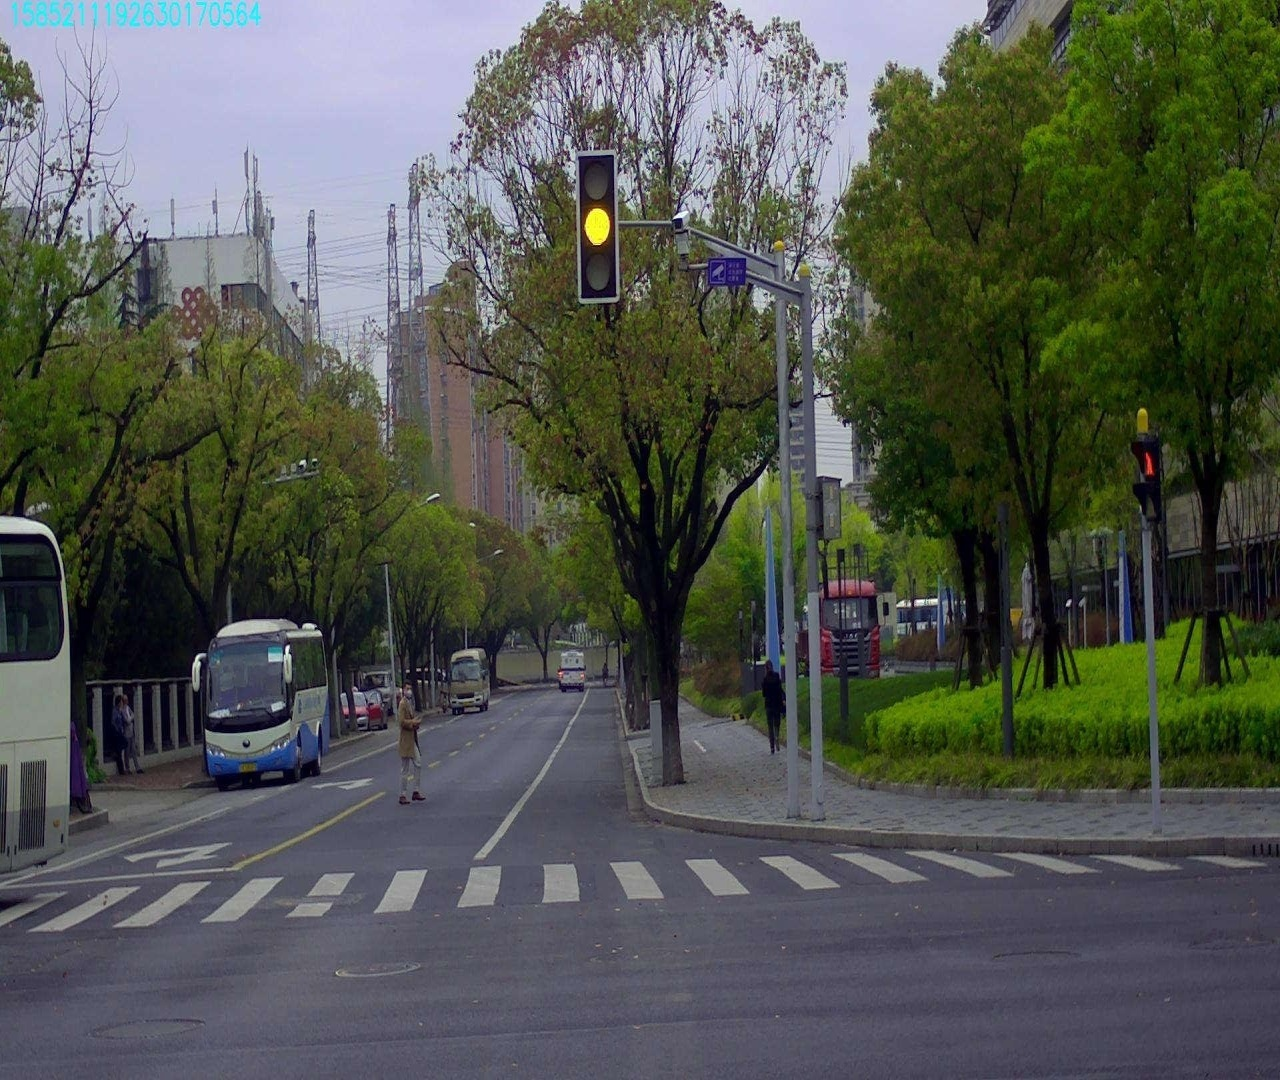yellow: (578, 154, 617, 300)
